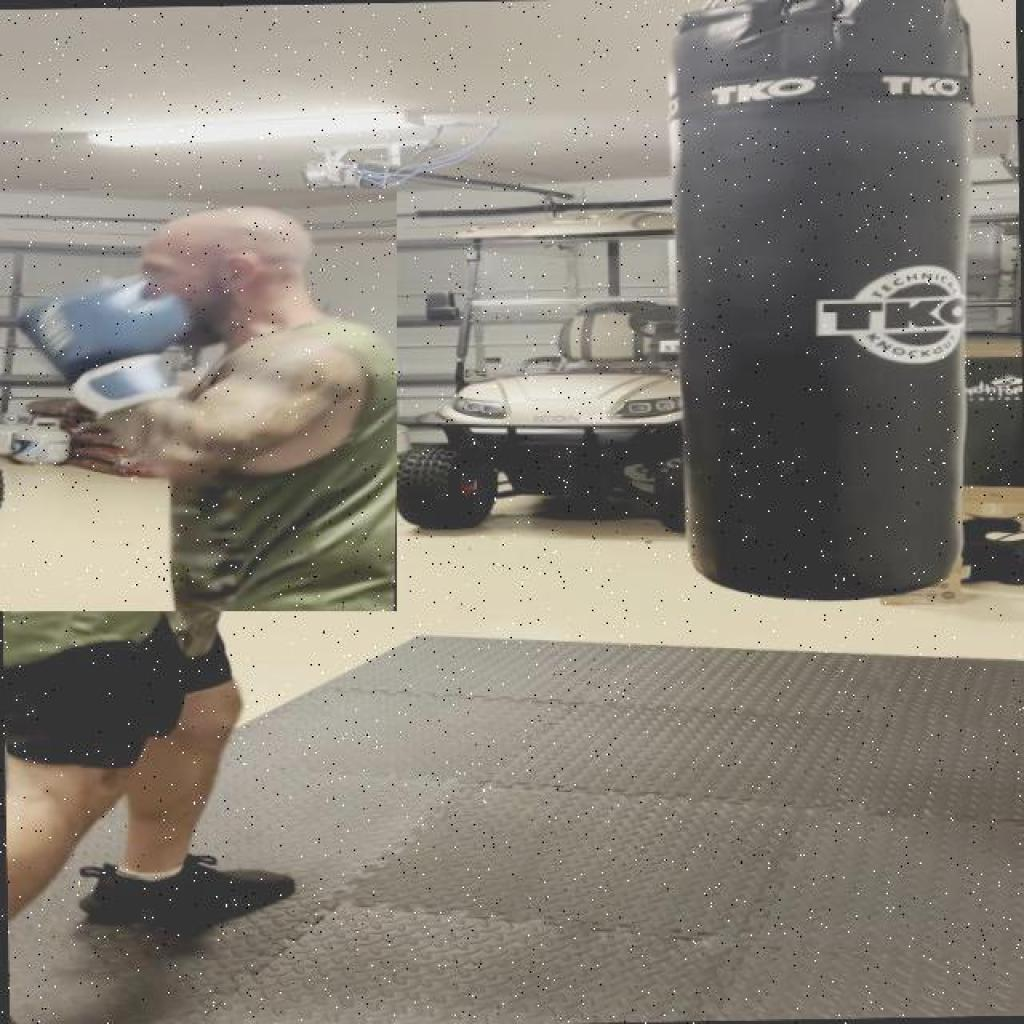bag: (651, 0, 1001, 598)
no punch: (0, 189, 397, 610)
